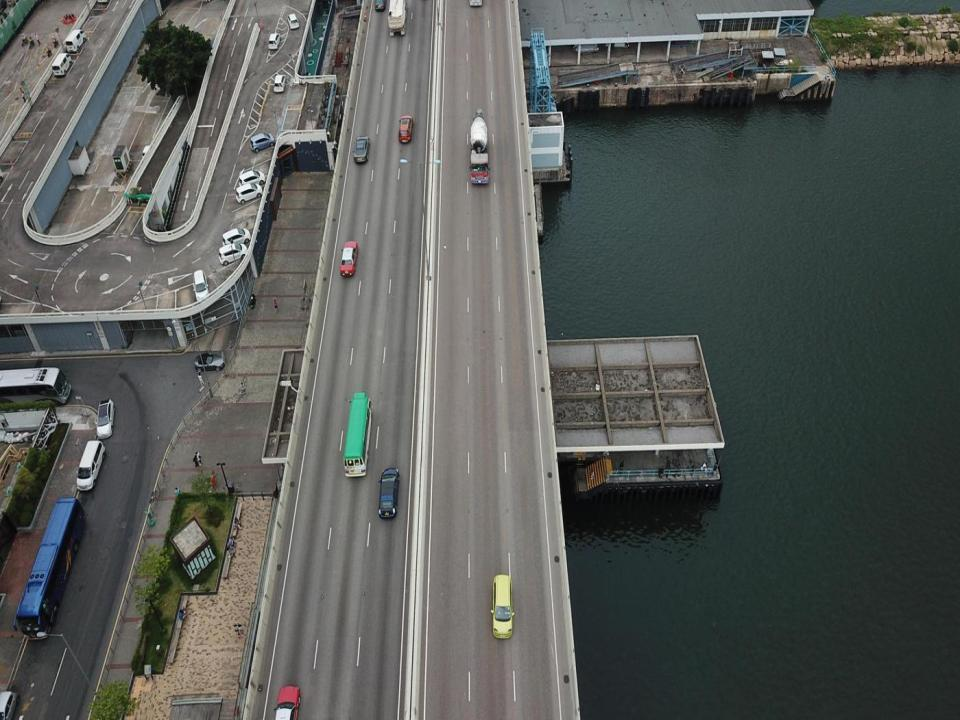bus: (12, 496, 90, 642), (0, 363, 71, 415), (342, 392, 373, 481)
car: (489, 573, 516, 641), (377, 465, 402, 521), (272, 682, 303, 719), (94, 398, 118, 439), (338, 239, 361, 277), (222, 226, 253, 250), (219, 241, 249, 265), (234, 182, 264, 206), (192, 268, 213, 302), (352, 133, 372, 164), (238, 168, 266, 189), (195, 351, 224, 371), (249, 132, 274, 154), (397, 114, 414, 142), (274, 72, 287, 92), (286, 12, 300, 30), (268, 31, 281, 49), (372, 0, 387, 11)
truck: (466, 106, 492, 185), (386, 0, 407, 39)
van: (76, 441, 108, 492), (65, 27, 88, 53), (52, 50, 72, 78)
